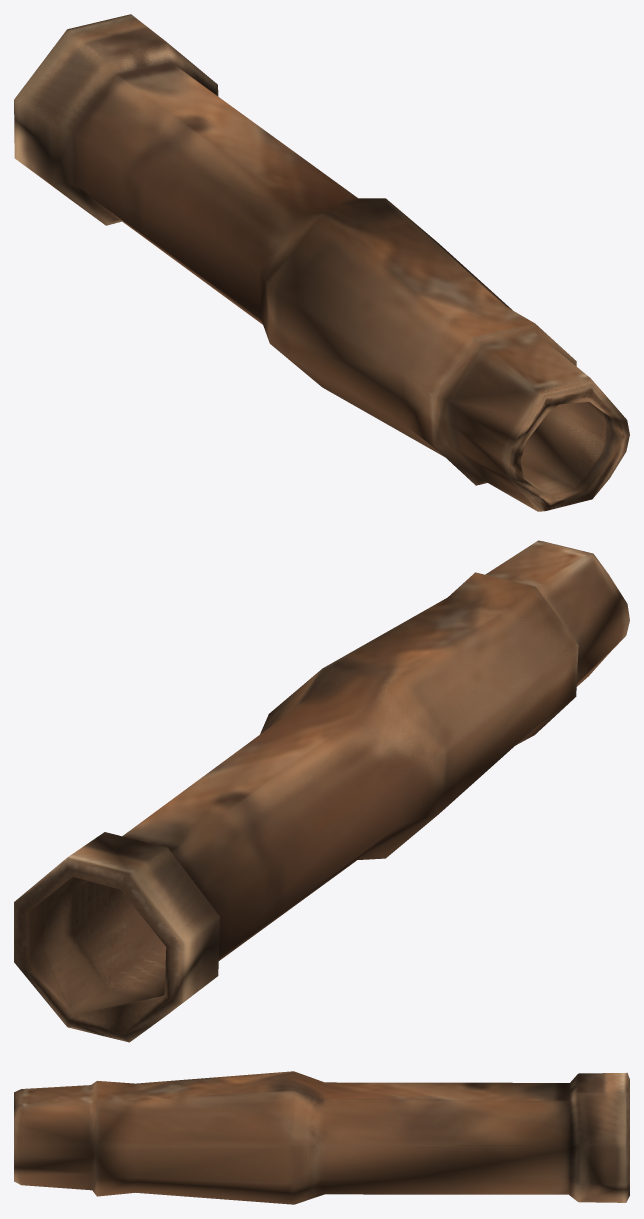
The model's file is Meshy_AI_Cardboard_Cocoon_0831081921_texture.fbx.
3 views of the same model, one above another, from view 1: azimuth 30°, elevation 25°; view 2: azimuth 150°, elevation 25°; view 3: azimuth 270°, elevation 25° (orthographic). The views are drawn at different scales.
Parts seen in each view (by area): view 1: mesh_node; view 2: mesh_node; view 3: mesh_node.
Boxes of the visible parts, left/top/right/bottom form: mesh_node: left=14, top=14, right=629, bottom=511; mesh_node: left=14, top=540, right=629, bottom=1042; mesh_node: left=14, top=1071, right=629, bottom=1204.
Bounding box in the file's own units: 20.9 × 20.31 × 100.
Materials: 1 (1 with a texture image).
